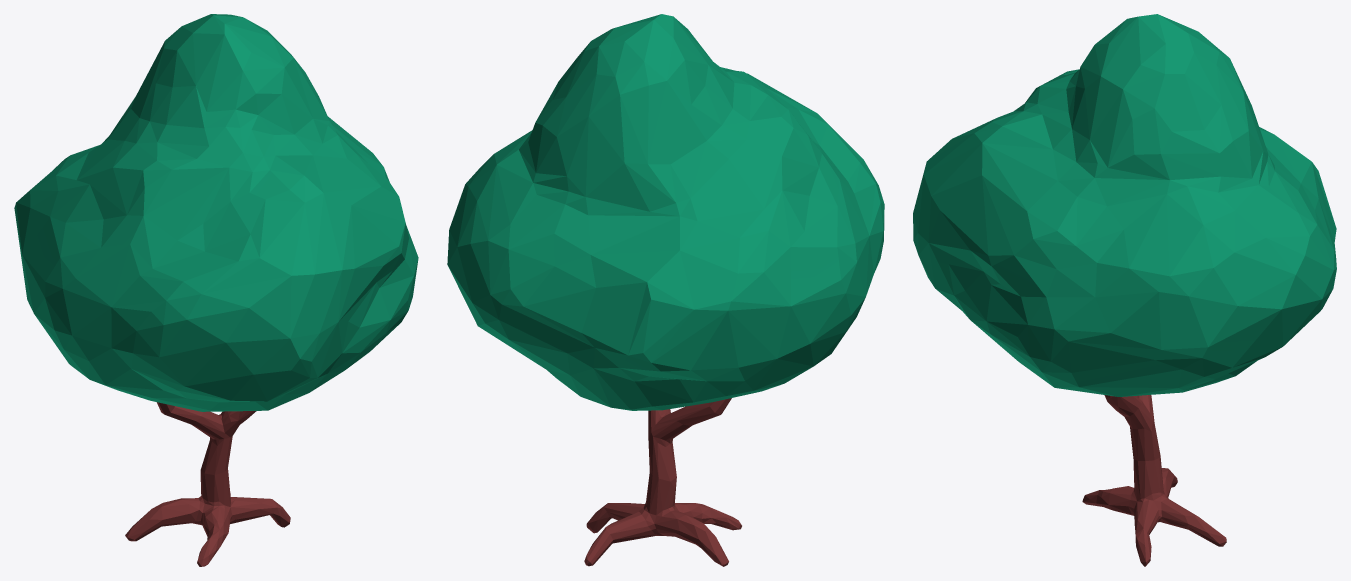
The model's file is Arbre3.fbx.
3 renders of one model, left to right at view 1: azimuth 30°, elevation 25°; view 2: azimuth 150°, elevation 25°; view 3: azimuth 270°, elevation 25°, orthographic. The views are drawn at different scales.
Visible parts, largest first — view 1: TreeTopHigh; view 2: TreeTopHigh; view 3: TreeTopHigh.
Boxes of the visible parts, x1,y1,x2,y2 form: TreeTopHigh: [14, 14, 418, 566]; TreeTopHigh: [447, 14, 884, 566]; TreeTopHigh: [913, 14, 1336, 566].
Size of the model in its own units: 1294 by 1844 by 1358.
